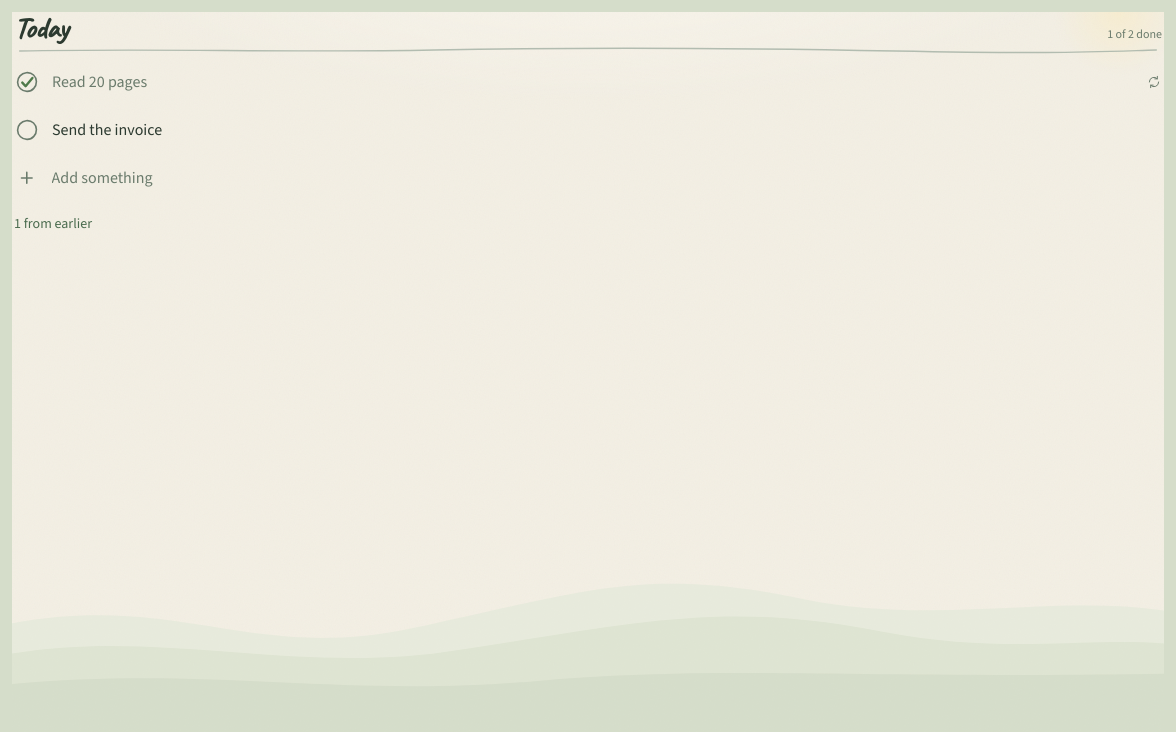
Scenario: TodayList › reveals open tasks from earlier in place
Click the button "1 from earlier". click: click(53, 224)
box: x1=12 y1=202 x2=94 y2=246
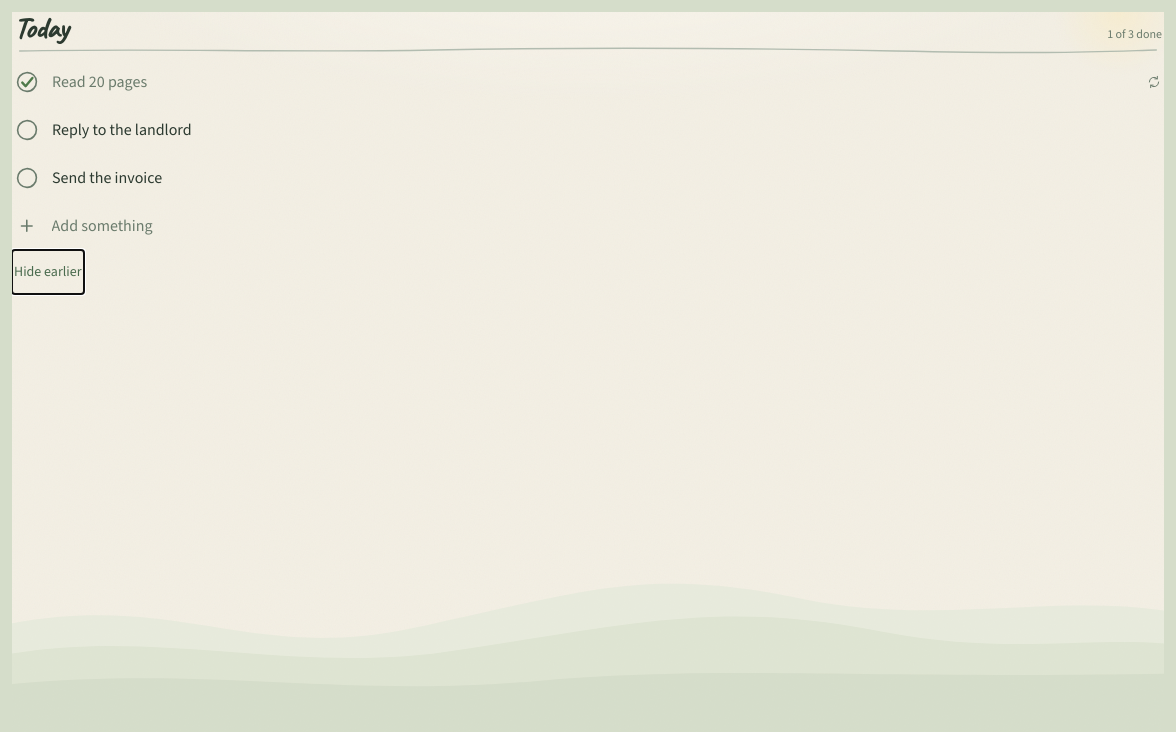
Check: the checkbox labelled "Reply to the landlord" is shown, box x1=12 y1=106 x2=1164 y2=154
Check: the text "1 of 3 done" is shown, box x1=1107 y1=26 x2=1162 y2=42
Click the button "Hide earlier". click: click(48, 272)
box: x1=12 y1=250 x2=84 y2=294
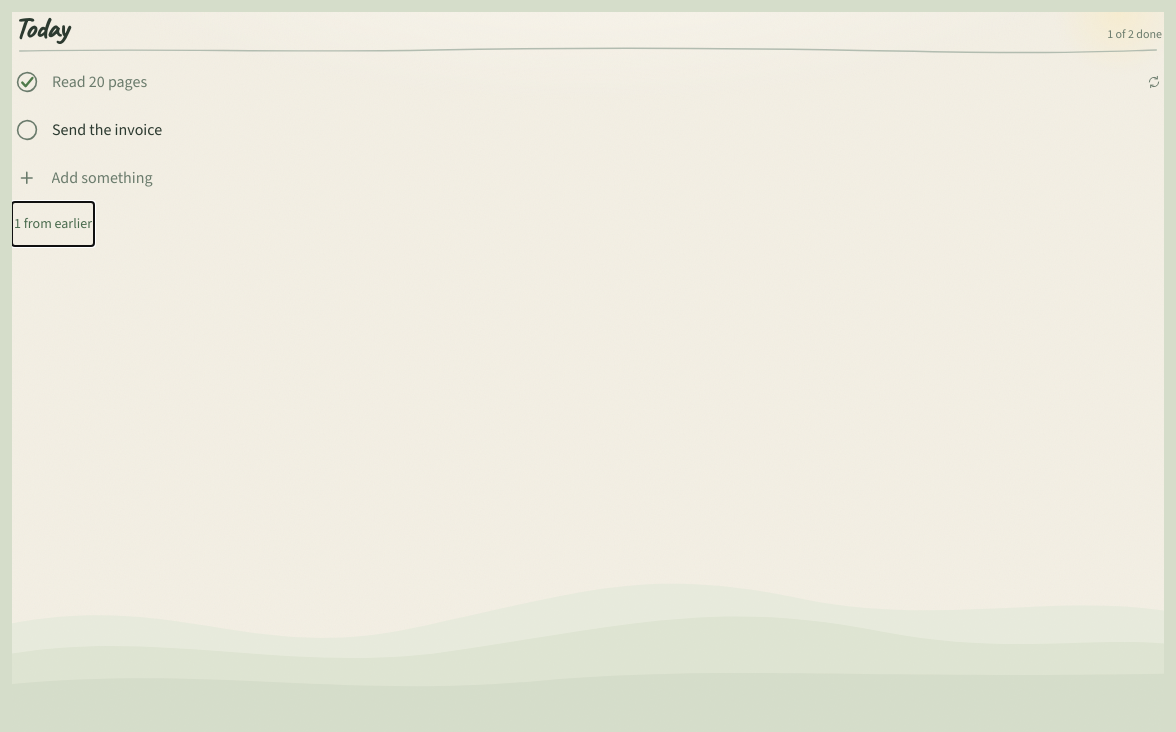
Check: the checkbox "Reply to the landlord" is gone
